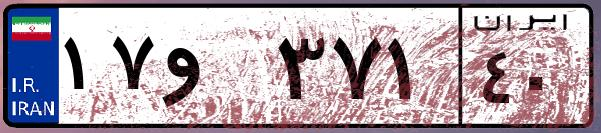0: (525, 38, 570, 115)
1: (385, 28, 445, 110), (57, 26, 110, 100)
3: (270, 28, 330, 110)
4: (475, 38, 525, 113)
7: (330, 28, 385, 110), (110, 28, 158, 98)
و: (158, 20, 270, 120)
